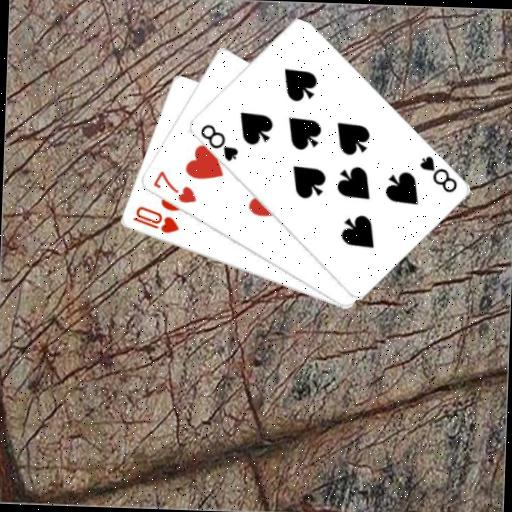10H: (128, 203, 180, 235)
7H: (149, 167, 199, 205)
8S: (195, 121, 240, 163), (414, 152, 459, 194)
